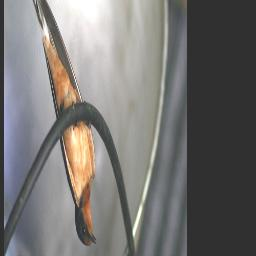Swallow: (22, 0, 100, 254)
